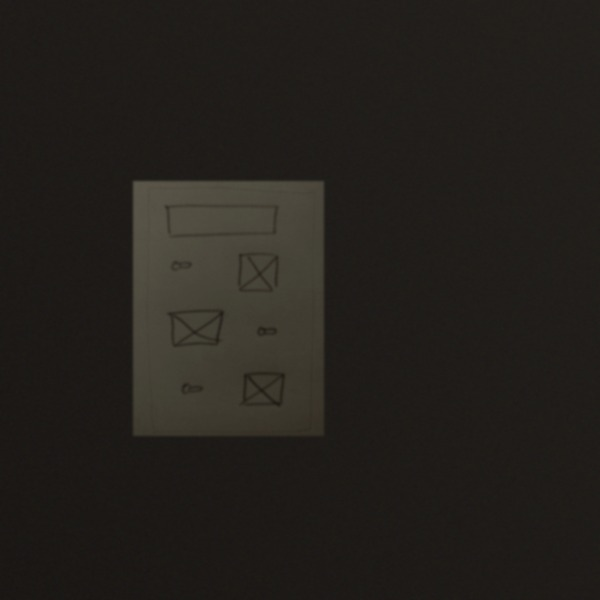image: (163, 307, 228, 351), (233, 249, 283, 295), (239, 370, 287, 409)
switch: (168, 255, 195, 274), (178, 380, 207, 397), (253, 323, 281, 339)
text_input: (162, 201, 282, 241)
